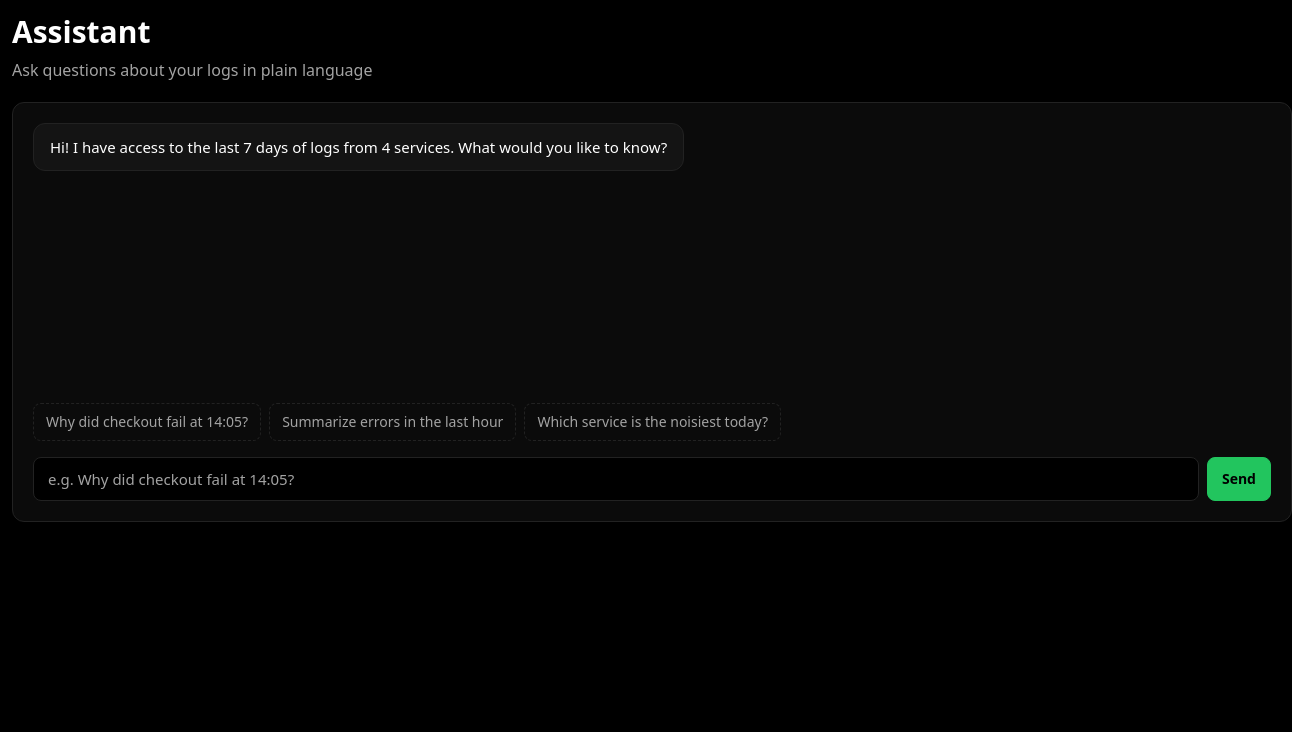
Test: AssistantPage › answers a typed message on Enter and clears the input
Type "hej" into the field named "Message" at (616, 479), box [33,457,1199,501]
Then press Enter
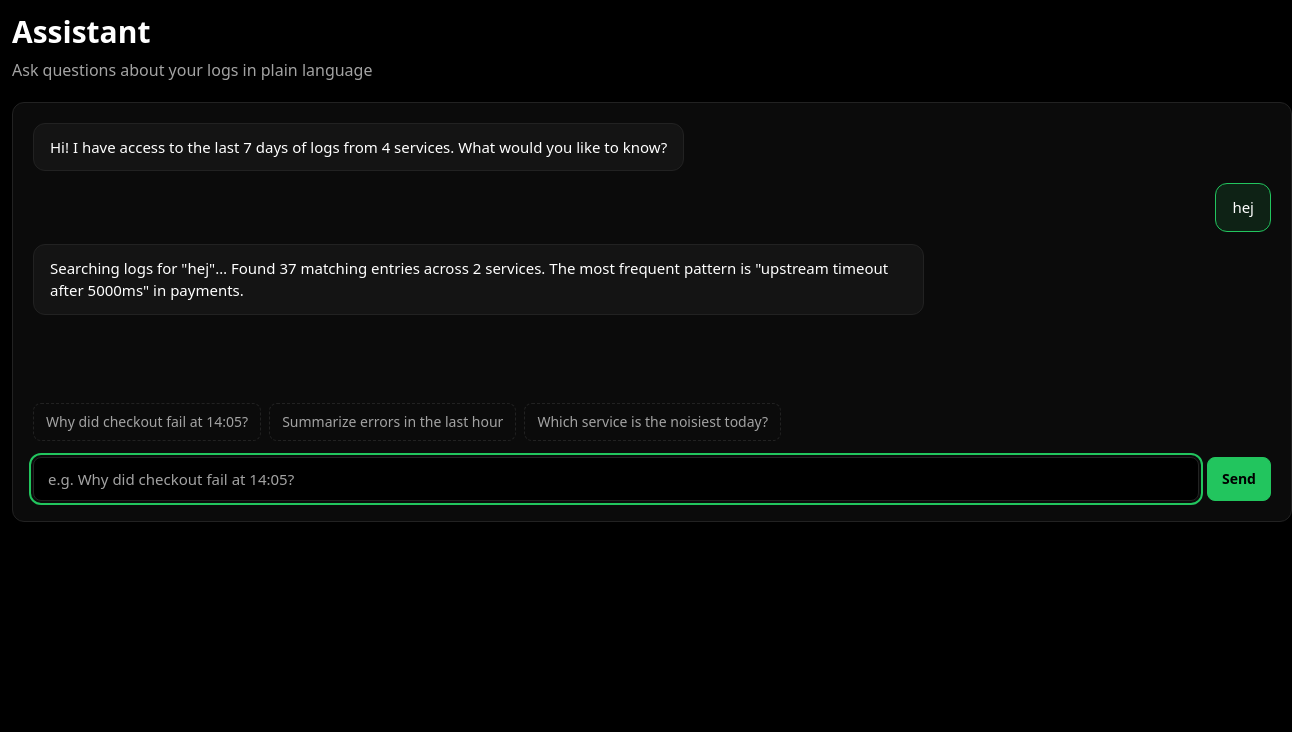
Expected: the text "hej" is shown, [1215,184,1271,232]
Expected: the text "Searching logs for \"hej\"" is shown, [50,258,888,300]
